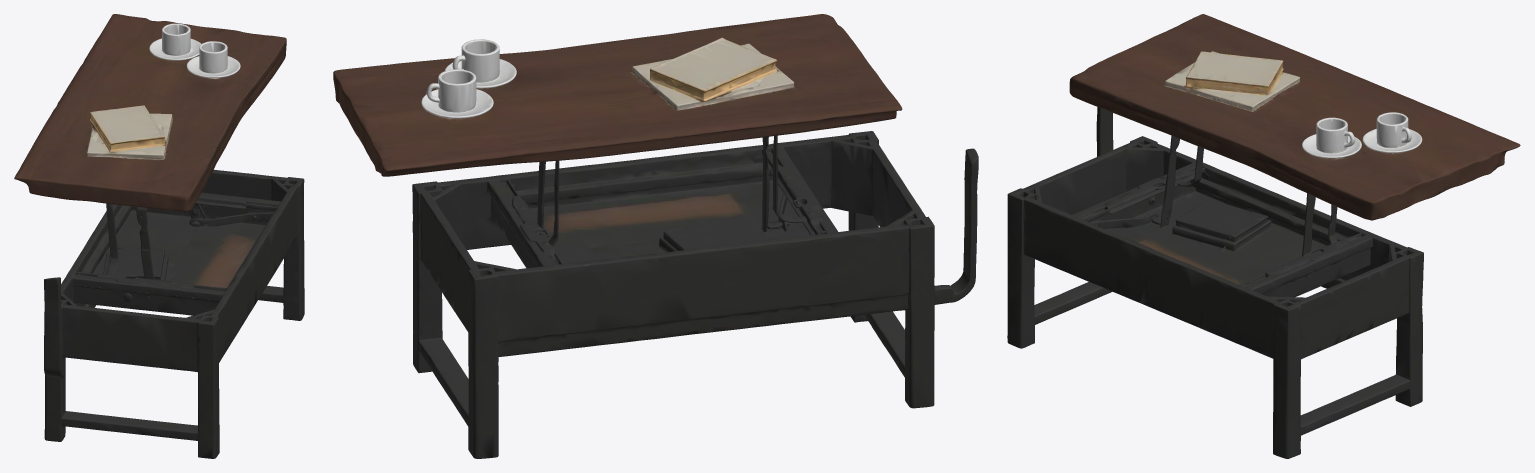
The model's file is homedepot-com-p-alaterre-furniture-pomona-42-in-rustic-natur-0a8dfe.glb.
The picture shows the model from 3 angles, left to right: view 1: azimuth 30°, elevation 25°; view 2: azimuth 150°, elevation 25°; view 3: azimuth 270°, elevation 25°; orthographic projection. The views are drawn at different scales.
Visible parts, largest first — view 1: tripo_node_57587760-ccc3-4761-b977-3acd1d7c1779; view 2: tripo_node_57587760-ccc3-4761-b977-3acd1d7c1779; view 3: tripo_node_57587760-ccc3-4761-b977-3acd1d7c1779.
Boxes of the visible parts, bbox=[...] form: tripo_node_57587760-ccc3-4761-b977-3acd1d7c1779: bbox=[14, 14, 304, 458]; tripo_node_57587760-ccc3-4761-b977-3acd1d7c1779: bbox=[333, 14, 978, 458]; tripo_node_57587760-ccc3-4761-b977-3acd1d7c1779: bbox=[1007, 14, 1520, 458].
Bounding box in the file's own units: 0.8792 × 0.6252 × 0.9766.
Materials: 1 (1 with a texture image).
